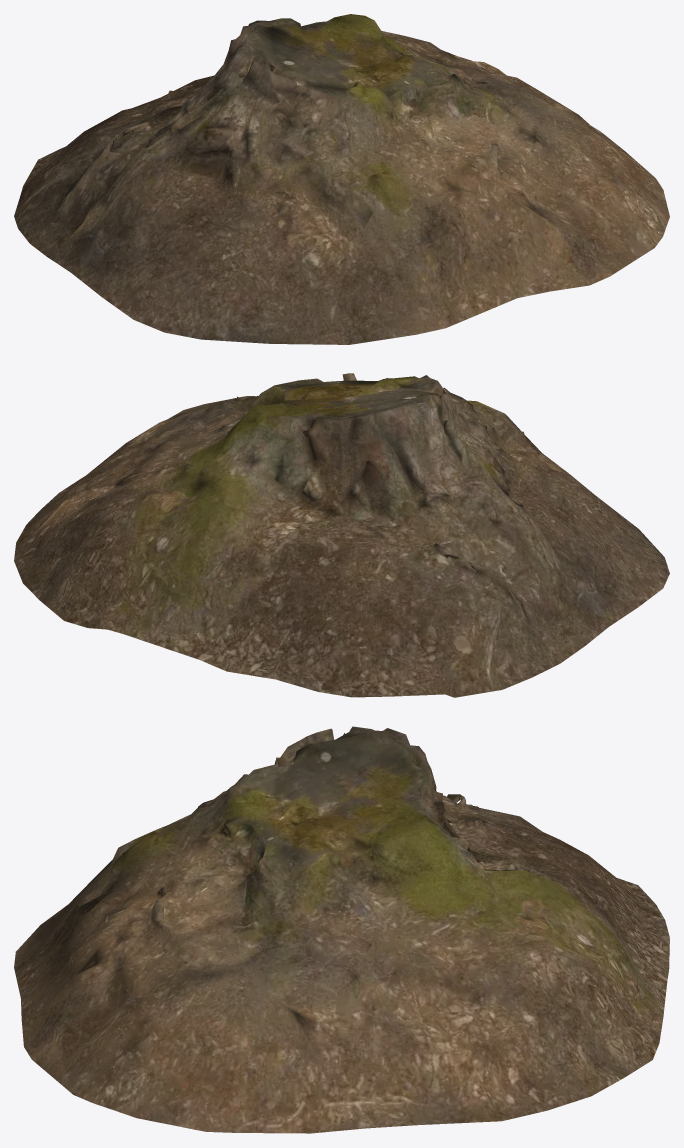
The model's file is tocon.glb.
The picture shows the model from 3 angles, top to bottom: view 1: azimuth 30°, elevation 25°; view 2: azimuth 150°, elevation 25°; view 3: azimuth 270°, elevation 25°; orthographic projection. The views are drawn at different scales.
Parts seen in each view (by area): view 1: tree_stump_02_1k(Clone); view 2: tree_stump_02_1k(Clone); view 3: tree_stump_02_1k(Clone).
Boxes of the visible parts, bbox=[...] form: tree_stump_02_1k(Clone): bbox=[14, 14, 669, 344]; tree_stump_02_1k(Clone): bbox=[14, 373, 669, 697]; tree_stump_02_1k(Clone): bbox=[14, 726, 669, 1133].
Bounding box in the file's own units: 1.52 × 0.5184 × 1.39.
Materials: 1 (1 with a texture image).
